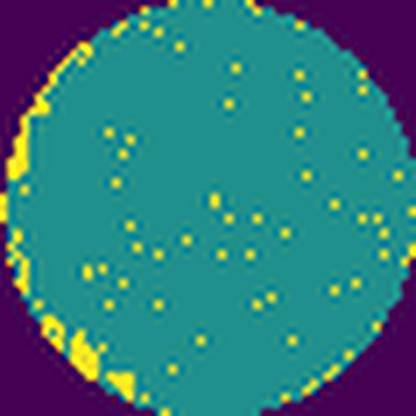Edge-Loc: (3, 42, 94, 178), (72, 327, 108, 384), (109, 364, 142, 402)
